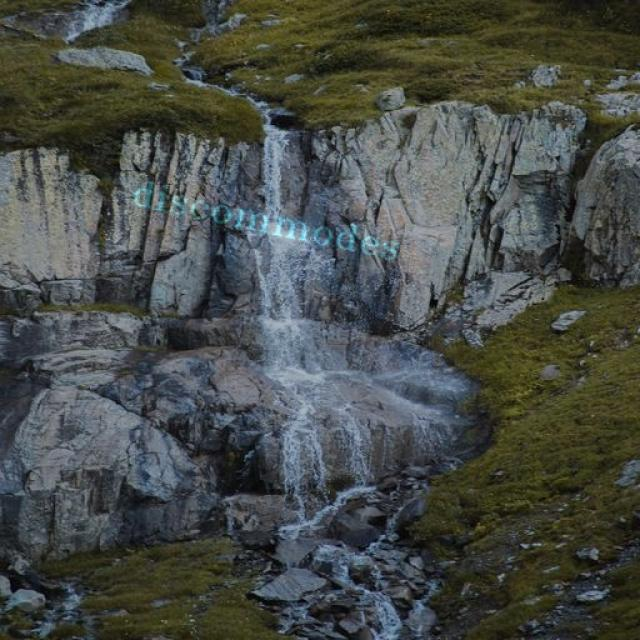watermark: (120, 175, 424, 267)
